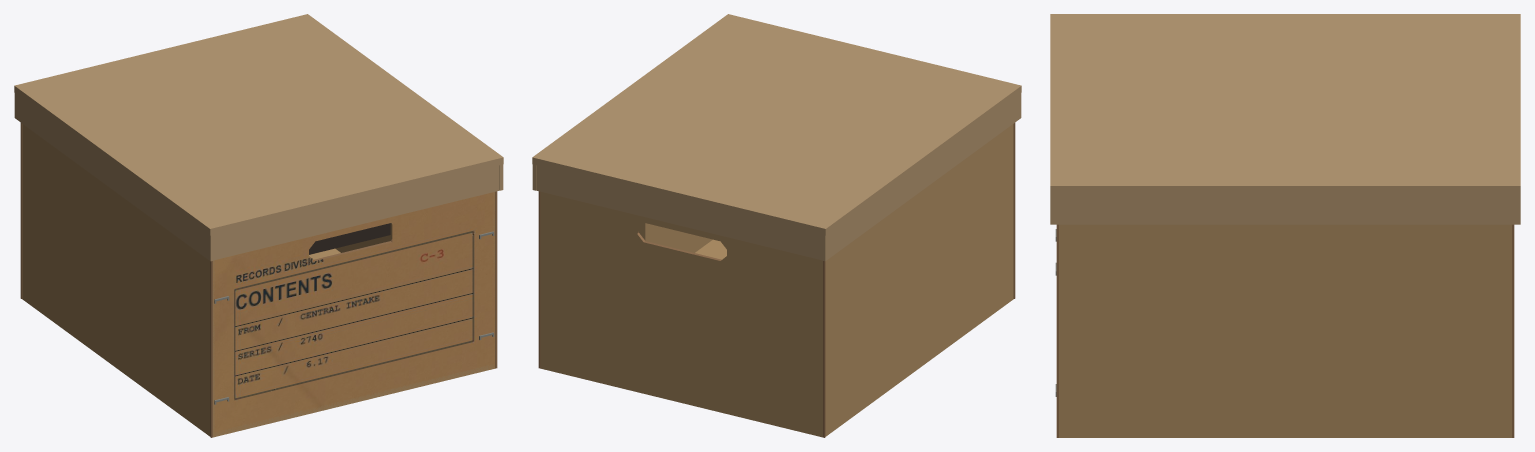
3 views of the same model, side by side, from view 1: azimuth 30°, elevation 25°; view 2: azimuth 150°, elevation 25°; view 3: azimuth 270°, elevation 25° (orthographic). The views are drawn at different scales.
Visible parts, largest first — view 1: TransferCaseC; view 2: TransferCaseC; view 3: TransferCaseC.
Part boxes in pixels (x1=…): TransferCaseC: x1=14, y1=14, x2=503, y2=437; TransferCaseC: x1=532, y1=14, x2=1021, y2=437; TransferCaseC: x1=1050, y1=14, x2=1520, y2=437.
Size of the model in its own units: 0.359 by 0.248 by 0.415.
Materials: 6 (1 with a texture image).
